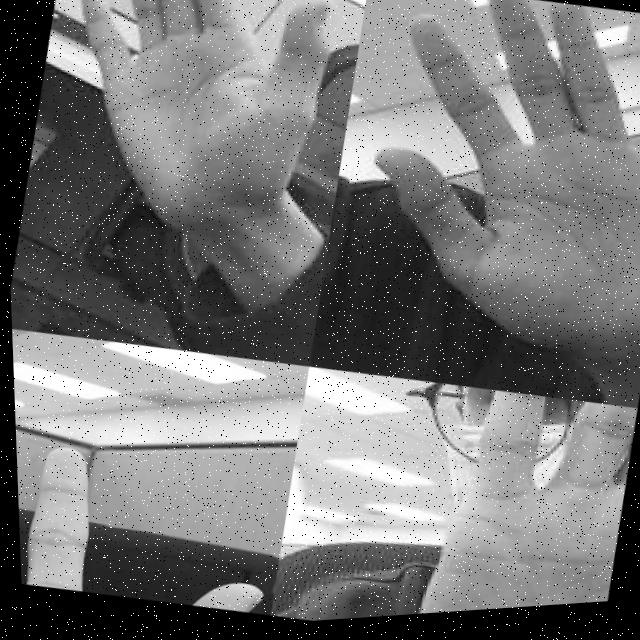hand: (336, 0, 640, 382), (38, 0, 354, 260), (372, 375, 640, 621), (12, 413, 284, 630)
